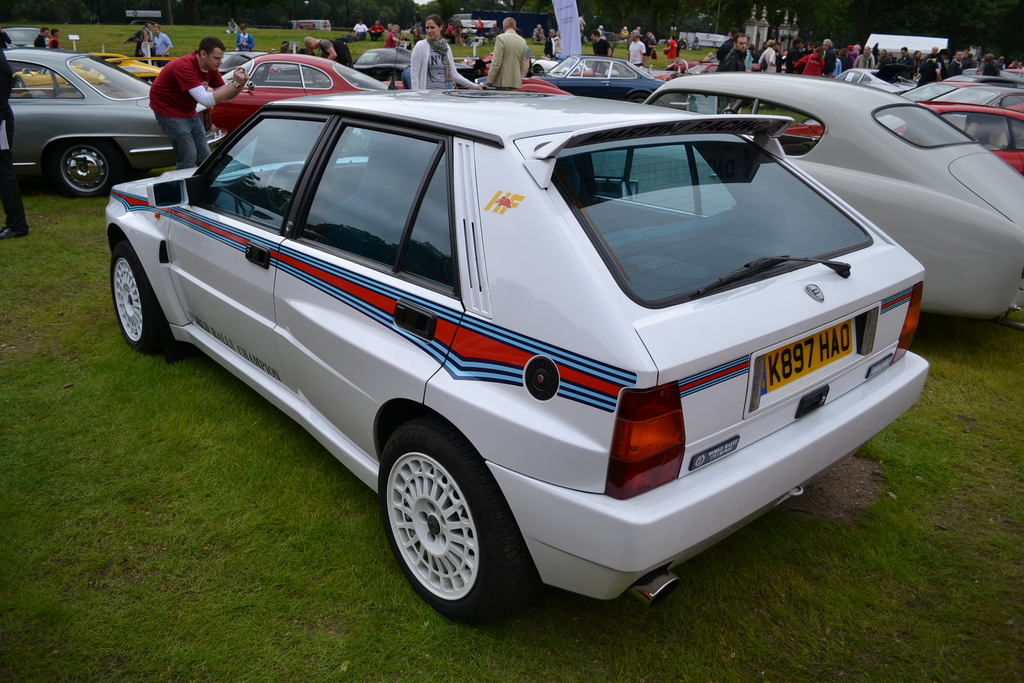Car: (103, 65, 912, 622), (637, 75, 1023, 314), (10, 46, 230, 192), (212, 16, 391, 141), (784, 104, 1023, 179), (473, 54, 687, 108), (15, 53, 172, 92), (902, 73, 1015, 105), (928, 85, 1023, 108), (7, 25, 57, 62)
